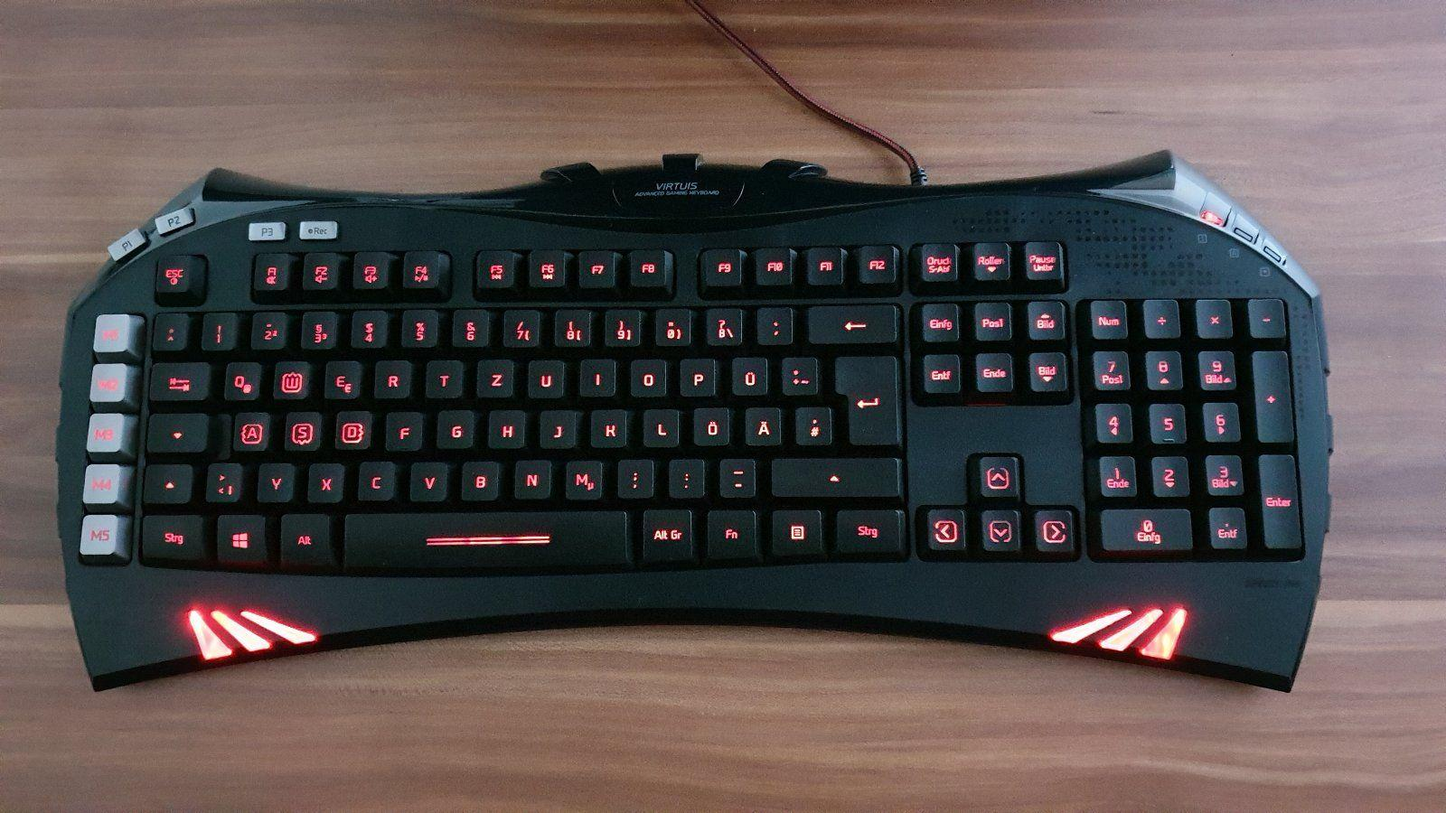0: (650, 302, 690, 343)
1: (201, 311, 239, 352)
2: (248, 305, 286, 347)
3: (296, 305, 335, 347)
4: (348, 304, 387, 346)
5: (397, 304, 437, 345)
6: (448, 304, 489, 345)
7: (499, 304, 539, 344)
8: (549, 303, 589, 345)
9: (600, 304, 640, 344)
a: (231, 406, 268, 447)
accent: (752, 302, 792, 341)
ae: (740, 401, 780, 443)
alt-left: (275, 508, 330, 564)
altgr-right: (641, 506, 696, 563)
b: (456, 455, 498, 498)
c: (353, 456, 394, 498)
caret: (152, 312, 189, 353)
comma: (614, 453, 652, 495)
d: (335, 410, 372, 452)
del: (803, 300, 896, 343)
e: (321, 354, 360, 397)
enter: (829, 350, 897, 444)
f: (381, 406, 420, 448)
g: (433, 405, 473, 446)
h: (484, 404, 523, 446)
hash: (791, 400, 830, 443)
i: (575, 352, 614, 393)
j: (535, 404, 575, 445)
k: (587, 403, 626, 445)
keyboard: (52, 189, 1327, 637)
l: (638, 403, 677, 444)
less: (202, 457, 240, 500)
m: (560, 454, 601, 497)
minus: (714, 453, 755, 494)
n: (509, 454, 549, 495)
o: (625, 354, 663, 394)
oe: (690, 402, 728, 443)
p: (675, 352, 714, 394)
plus: (776, 350, 815, 392)
point: (664, 453, 702, 495)
q: (220, 356, 258, 397)
r: (371, 354, 410, 397)
s: (285, 409, 322, 450)
shift-left: (140, 459, 192, 502)
shift-lock: (144, 409, 208, 452)
shift-right: (766, 453, 897, 495)
space: (339, 504, 625, 568)
ss: (700, 302, 739, 342)
strg-left: (138, 509, 206, 561)
strg-right: (830, 504, 903, 553)
t: (421, 354, 461, 395)
tab: (144, 357, 210, 401)
u: (523, 354, 563, 396)
ue: (727, 351, 766, 393)
v: (405, 456, 446, 498)
w: (271, 355, 308, 396)
x: (304, 457, 343, 500)
y: (255, 457, 294, 500)
z: (473, 353, 512, 396)
